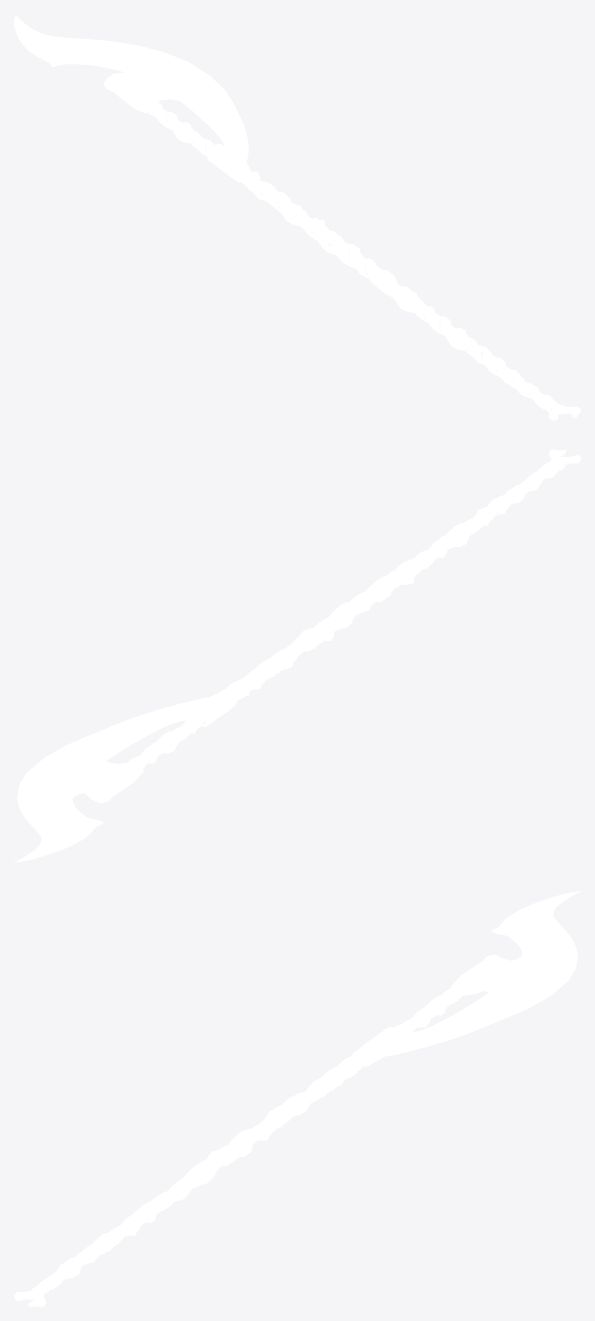
Rendered from Halberd.glb.
The picture shows the model from 3 angles, top to bottom: view 1: azimuth 30°, elevation 25°; view 2: azimuth 150°, elevation 25°; view 3: azimuth 330°, elevation 25°; orthographic projection.
Parts seen in each view (by area): view 1: Hallberd; view 2: Hallberd; view 3: Hallberd.
Boxes of the visible parts, x1,y1,x2,y2 form: Hallberd: [14, 15, 580, 420]; Hallberd: [14, 449, 580, 862]; Hallberd: [14, 891, 580, 1306].
Bounding box in the file's own units: 0.6821 × 0.129 × 5.94.
1 material, 1 textured.
